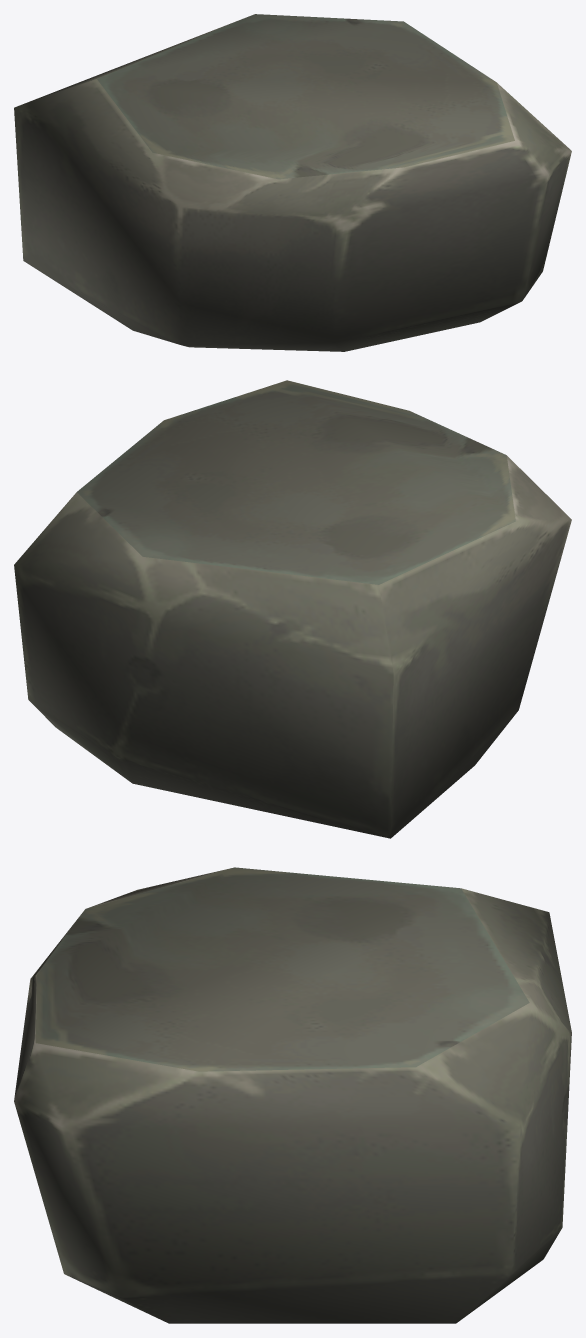
The model's file is yw_shanlin_stones_011.FBX.
The picture shows the model from 3 angles, top to bottom: view 1: azimuth 30°, elevation 25°; view 2: azimuth 150°, elevation 25°; view 3: azimuth 270°, elevation 25°; orthographic projection. The views are drawn at different scales.
Parts seen in each view (by area): view 1: yw_shanlin_stones_011; view 2: yw_shanlin_stones_011; view 3: yw_shanlin_stones_011.
Boxes of the visible parts, <box> form: yw_shanlin_stones_011: <box>14,14,571,351</box>; yw_shanlin_stones_011: <box>14,380,571,838</box>; yw_shanlin_stones_011: <box>14,867,571,1323</box>.
Bounding box in the file's own units: 81.78 × 85.23 × 42.88.
